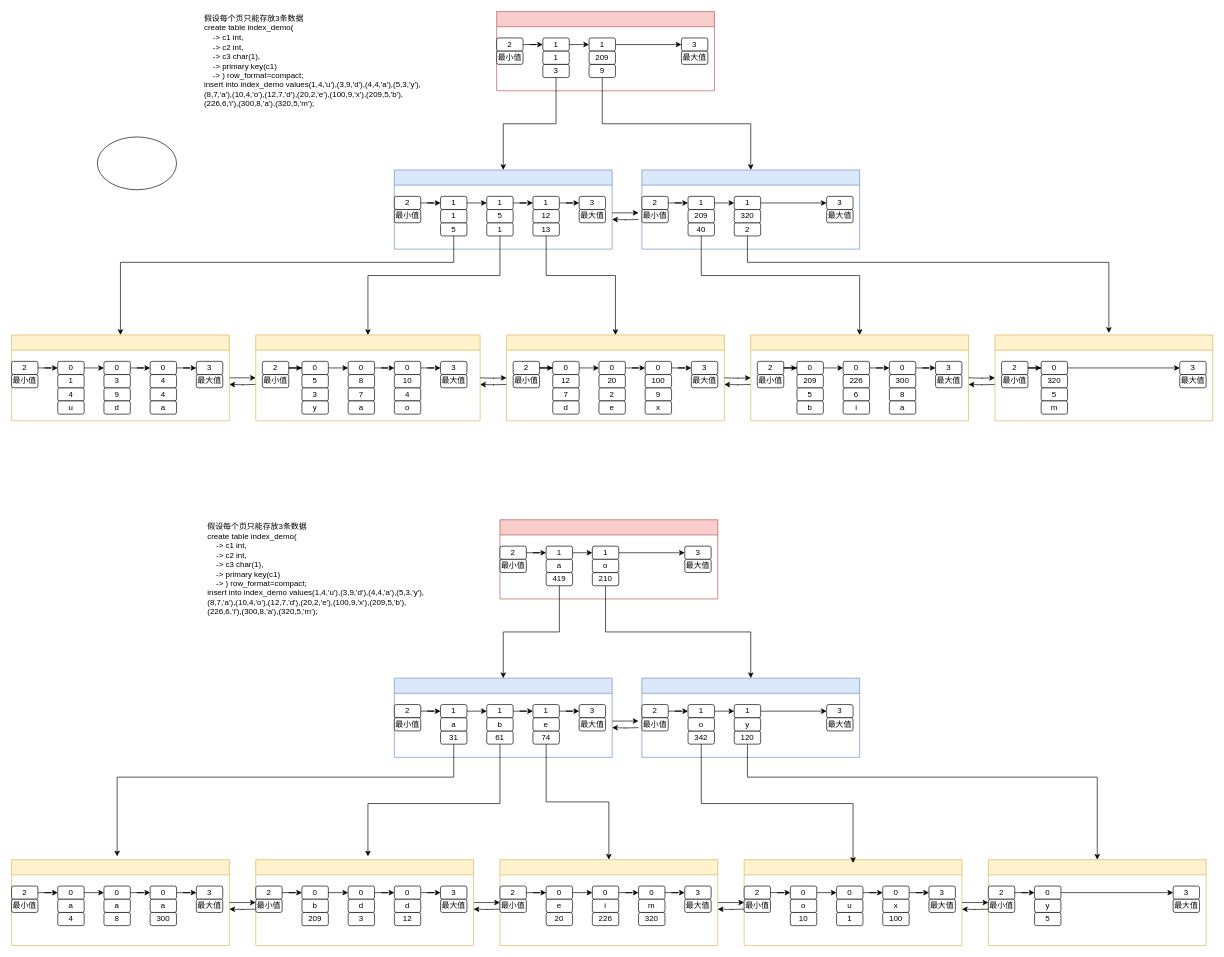
Some shapes in this 1224 by 957 pixel diagram are drawn without their labels. Here are the shapes that lost their labels. From the top down, the box of each, then its label:
(496, 11, 714, 91): 页55
(97, 136, 177, 190): 主键索引
(394, 169, 612, 249): 页3
(641, 169, 860, 249): 页9
(11, 334, 229, 421): 页5
(255, 334, 480, 421): 页1
(506, 334, 724, 421): 页13
(750, 334, 969, 421): 页40
(994, 334, 1213, 421): 页2
(499, 519, 718, 599): 页183
(394, 677, 612, 757): 页419
(641, 677, 860, 757): 页210
(11, 859, 229, 945): 页31
(255, 859, 474, 945): 页61
(499, 859, 718, 945): 页74
(743, 859, 962, 945): 页342
(988, 859, 1206, 945): 页120
